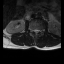CCS_normal: (35, 27, 37, 36)
LFS_stenosis: (39, 27, 41, 34)
LLS_normal: (37, 27, 39, 34)
RFS_normal: (31, 27, 33, 33)
RLS_normal: (33, 27, 35, 33)
